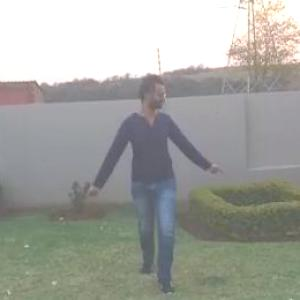land: (65, 67, 235, 299)
